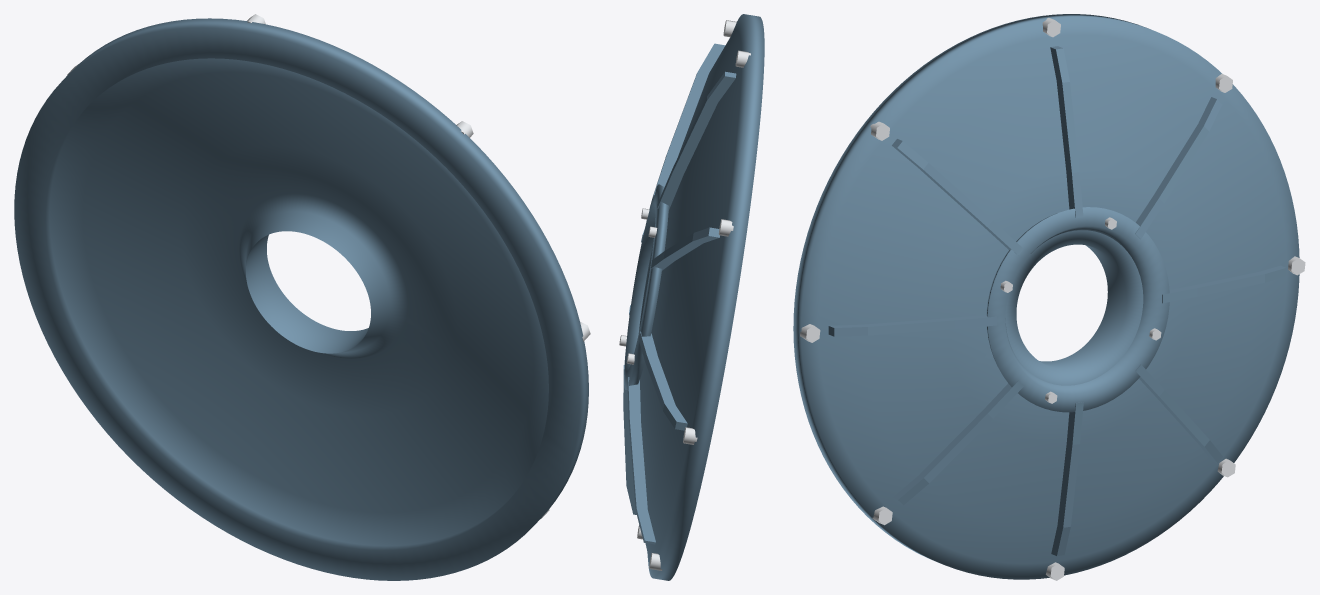
File: induction_endShieldNDE.glb
3 renders of one model, left to right at view 1: azimuth 30°, elevation 25°; view 2: azimuth 150°, elevation 25°; view 3: azimuth 270°, elevation 25°, orthographic. The views are drawn at different scales.
Bounding box in the file's own units: 0.4976 × 0.8968 × 0.8064.
